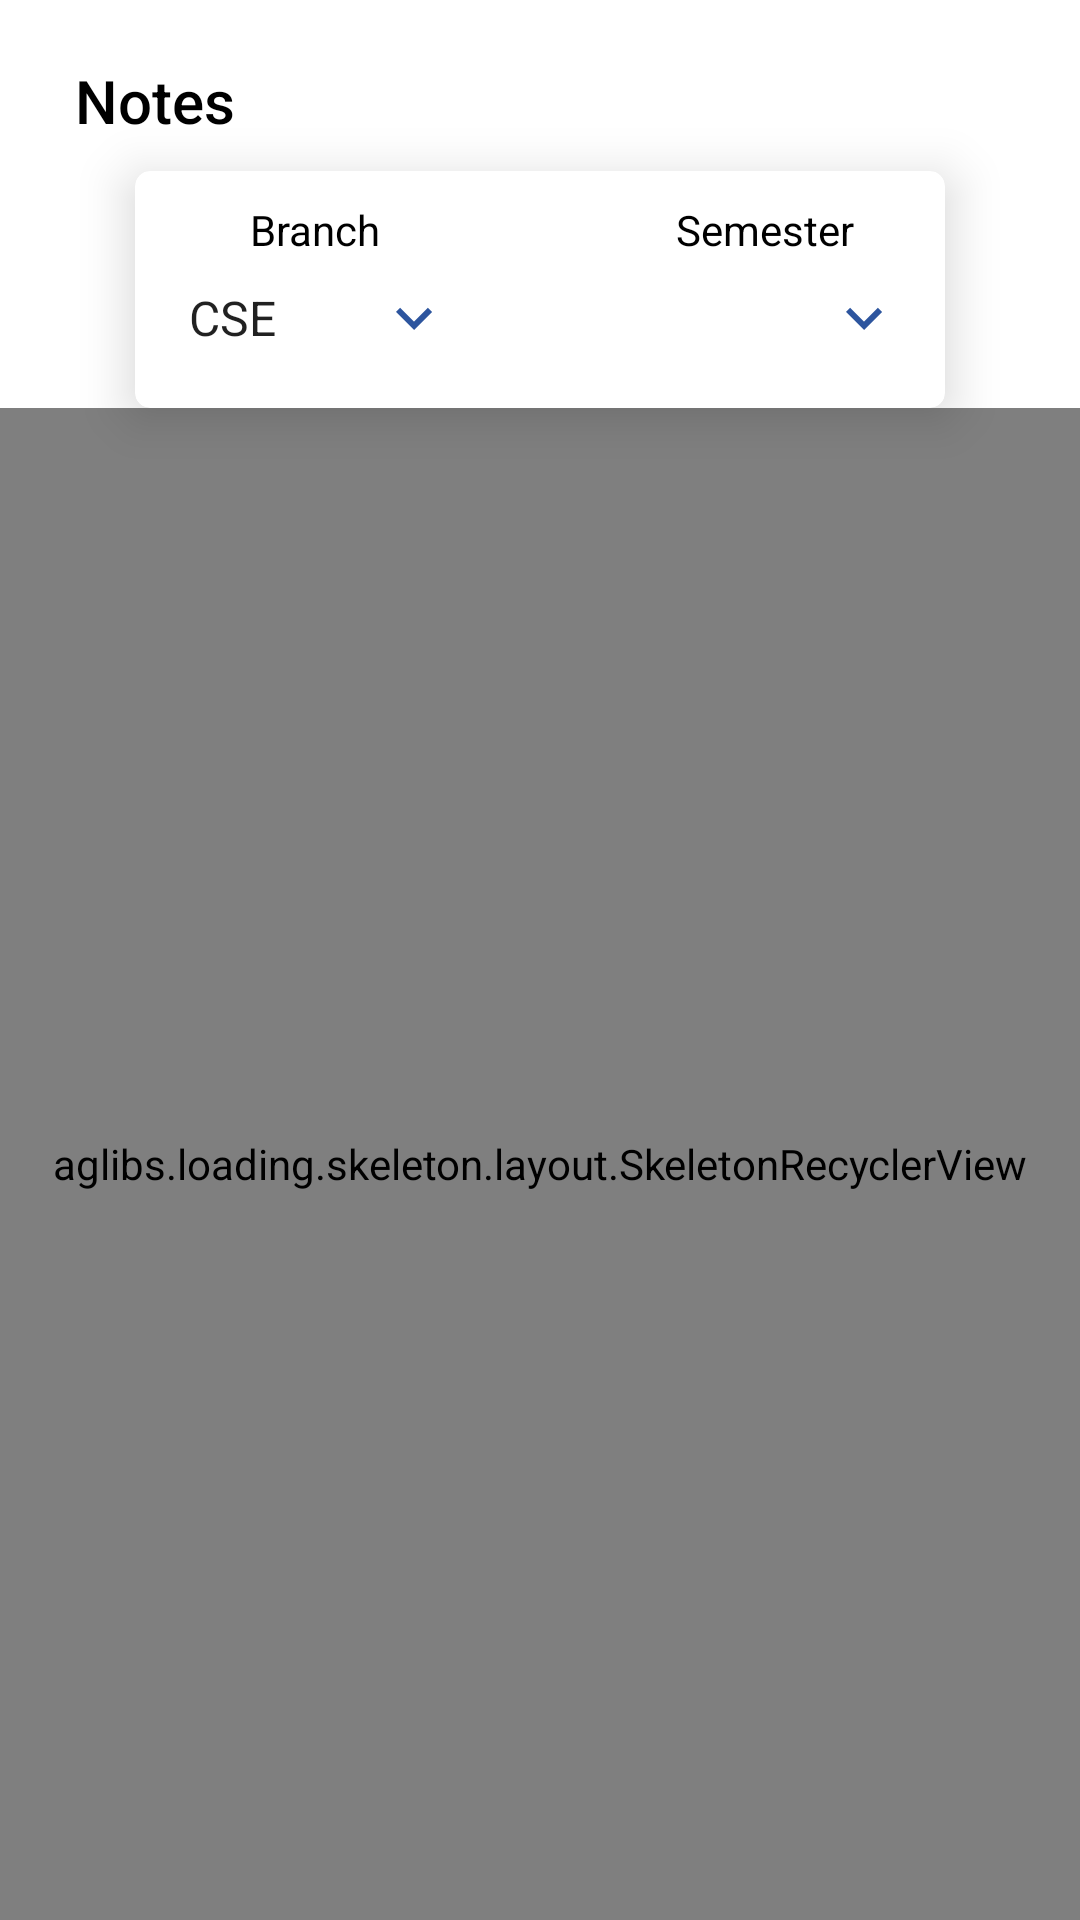

Locate icon controls on the screen. Image size 1080 x 1920, boxes as (x1, y1, x2, y2).
keyboard arrow down: (396, 308, 432, 330), (846, 308, 882, 330)
